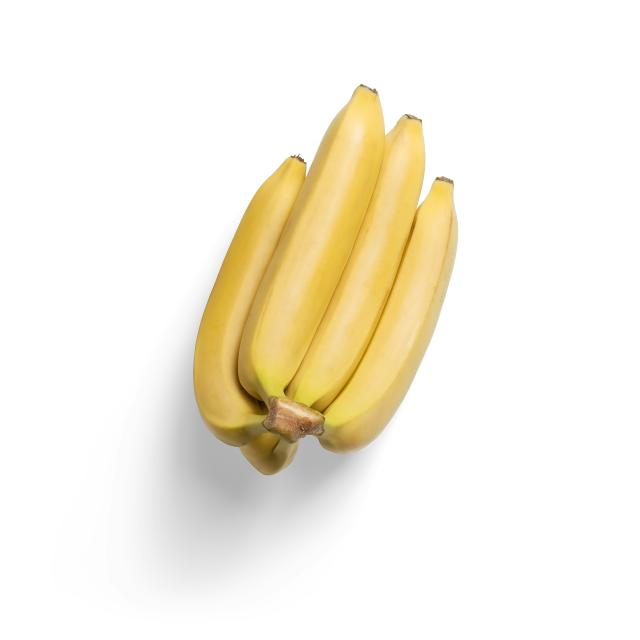banana: (237, 83, 386, 411), (285, 114, 426, 411), (316, 176, 459, 455), (194, 155, 307, 447), (238, 431, 300, 474)
